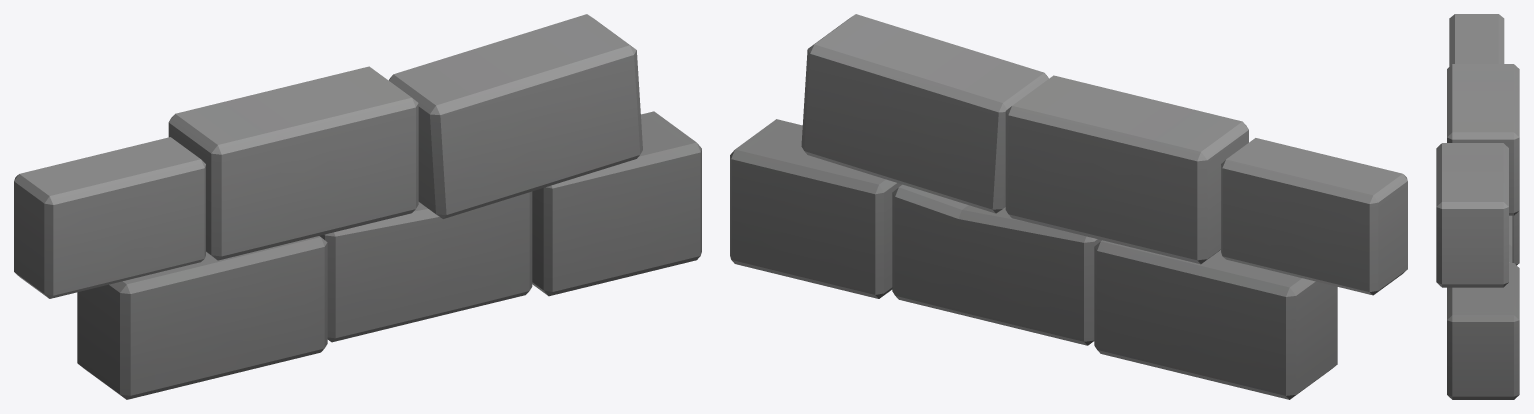
Rendered from Rock_Wall.fbx.
3 renders of one model, left to right at view 1: azimuth 30°, elevation 25°; view 2: azimuth 150°, elevation 25°; view 3: azimuth 270°, elevation 25°, orthographic. The views are drawn at different scales.
Visible parts, largest first — view 1: Cube.012; view 2: Cube.012; view 3: Cube.012.
Boxes of the visible parts, left/top/right/bottom form: Cube.012: left=14, top=14, right=701, bottom=399; Cube.012: left=730, top=14, right=1407, bottom=399; Cube.012: left=1436, top=14, right=1519, bottom=399.
Bounding box in the file's own units: 295 × 103 × 44.91.
